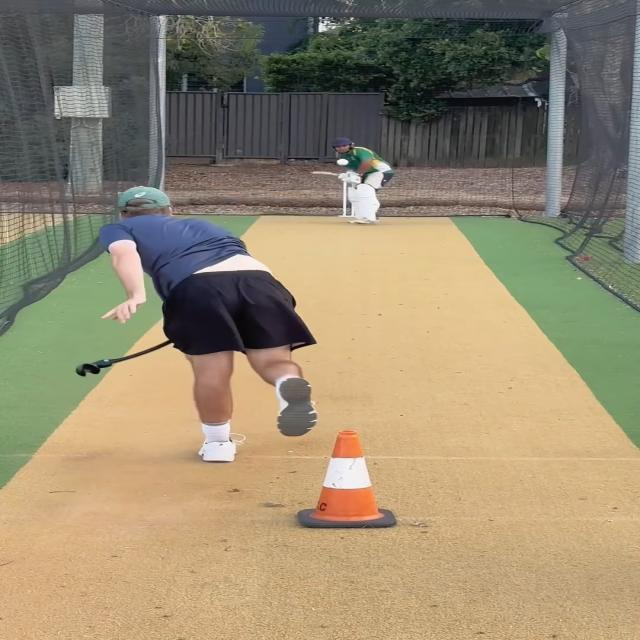Cricket ball: (334, 157, 352, 167)
